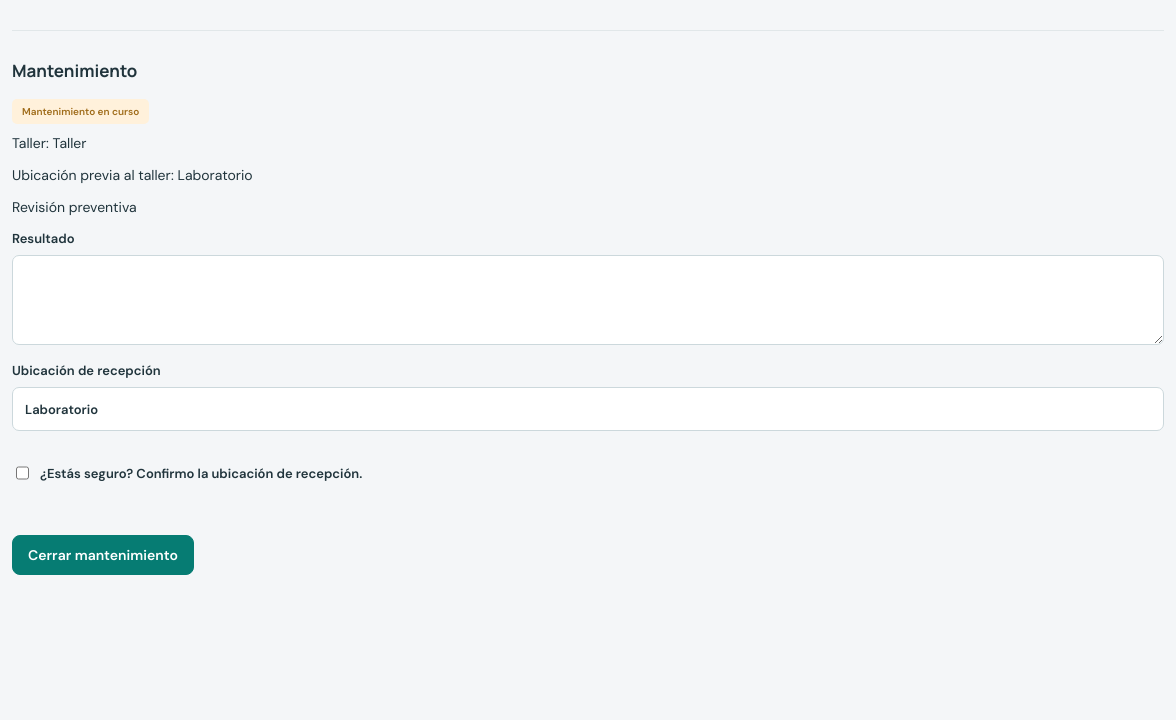
Test: no ofrece inicio para activos asignados y muestra los errores de cierre
In the text box labelled "Resultado": (588,300) [12,255,1164,345], type "Revisado"
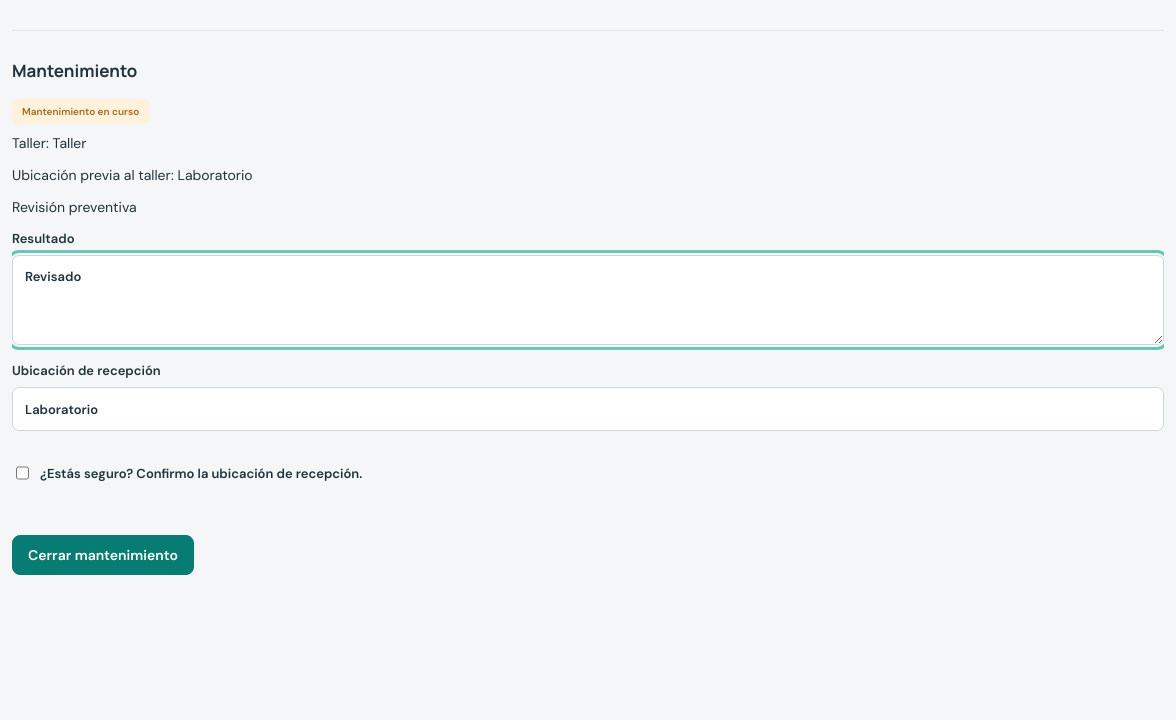
Click the checkbox labelled "¿Estás seguro? Confirmo la ubicación de recepción.": (22,473) [16,451,29,495]
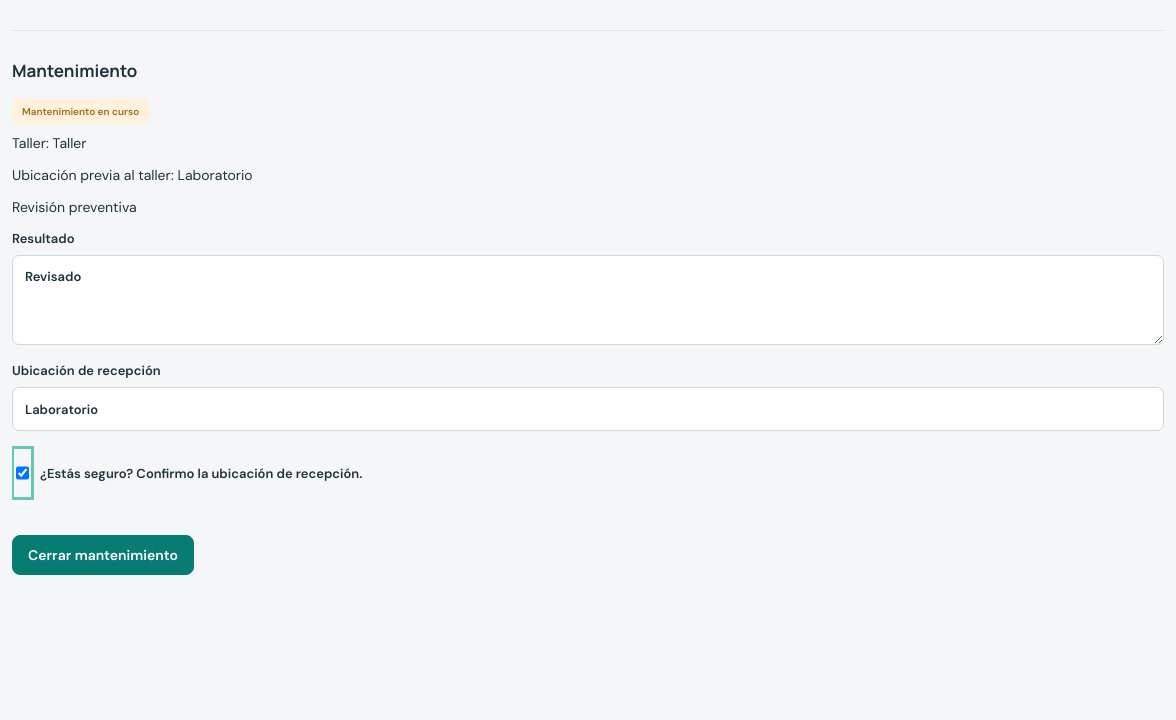
Click the button "Cerrar mantenimiento": (103,555) [12,535,194,575]
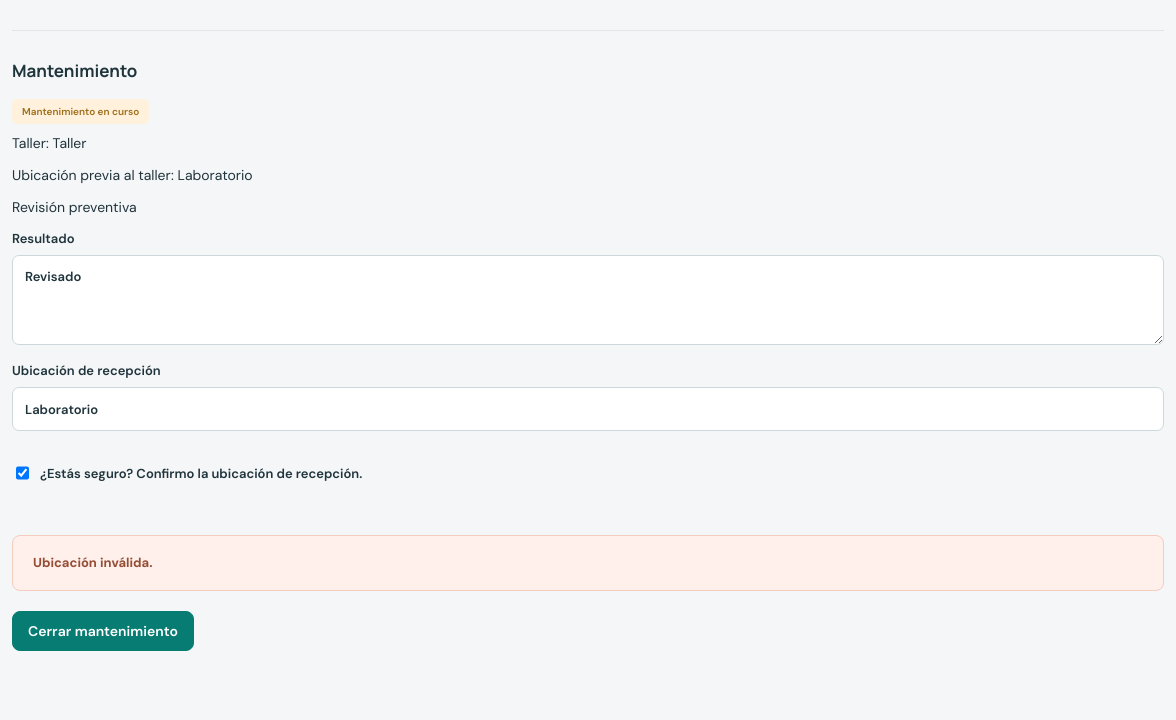
Expected: the message reads "Ubicación inválida.", [33,554,152,571]
